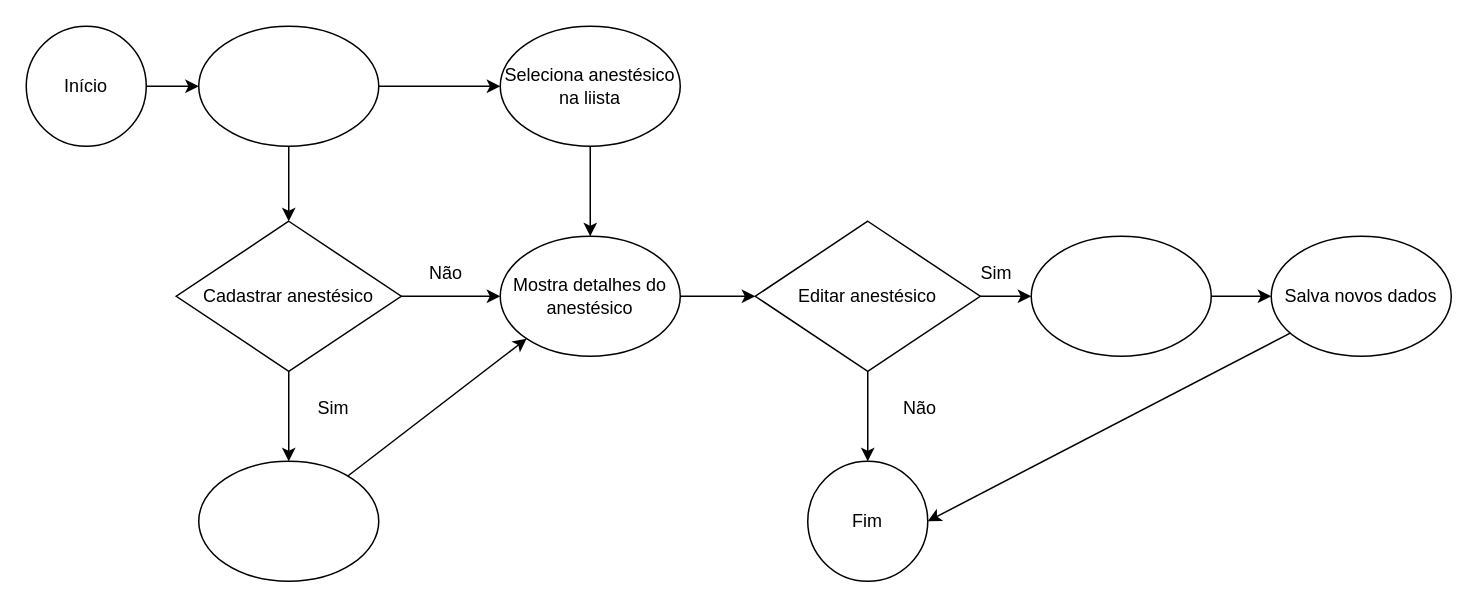
Image size: 1478x608. Some labels were removed from this diagram. The shapes that lost their labels are listed below. From the top down, each one's box as (x1, y1, x2, y2) in pixels, then its label:
(197, 25, 379, 146): Procura anestésico
(1030, 235, 1211, 356): Modifica cadastro
(197, 460, 379, 581): Cadastra anestésico
